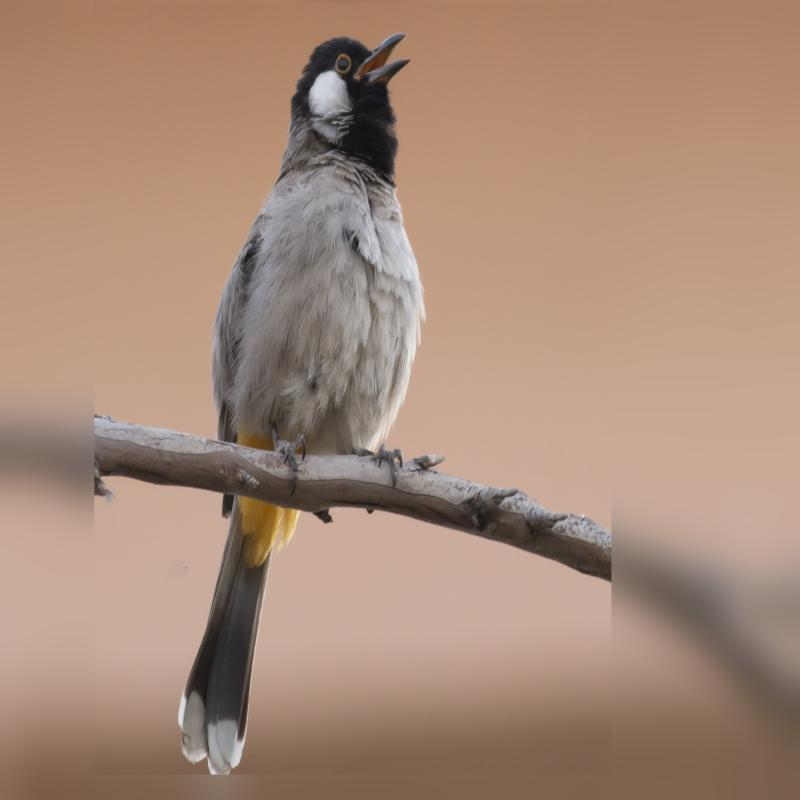white-eared bulbul: (157, 25, 442, 776)
